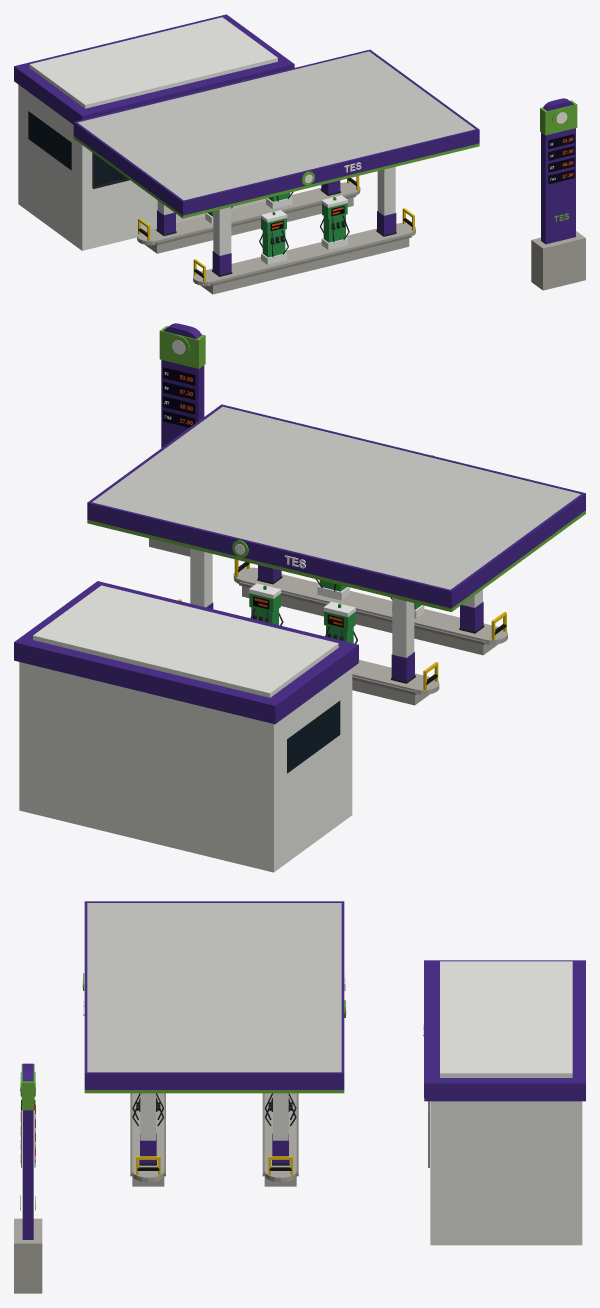
The model's file is azs_tes.glb.
3 renders of one model, top to bottom at view 1: azimuth 30°, elevation 25°; view 2: azimuth 150°, elevation 25°; view 3: azimuth 270°, elevation 25°, orthographic. The views are drawn at different scales.
Parts seen in each view (by area): view 1: azs_tes_canopy, azs_tes_shop_wall, azs_tes_concrete, azs_tes_brand, azs_tes_shop_band, azs_tes_stela, azs_tes_clad, azs_tes_shop_glass, azs_tes_pump, azs_tes_brand2, azs_tes_clad2, azs_tes_curb (+5 smaller); view 2: azs_tes_shop_wall, azs_tes_canopy, azs_tes_shop_band, azs_tes_brand, azs_tes_concrete, azs_tes_clad, azs_tes_brand2, azs_tes_stela, azs_tes_shop_glass, azs_tes_clad2, azs_tes_stela_panel, azs_tes_pump (+3 smaller); view 3: azs_tes_canopy, azs_tes_shop_wall, azs_tes_shop_band, azs_tes_brand, azs_tes_concrete, azs_tes_stela, azs_tes_clad, azs_tes_brand2, azs_tes_curb, azs_tes_metal, azs_tes_clad2.
Boxes of the visible parts, x1,y1,x2,y2 form: azs_tes_canopy: (77,51,475,200); azs_tes_shop_wall: (18,17,277,250); azs_tes_concrete: (137,182,585,294); azs_tes_brand: (73,49,479,215); azs_tes_shop_band: (14,14,294,124); azs_tes_stela: (541,98,575,244); azs_tes_clad: (157,167,395,255); azs_tes_shop_glass: (28,111,127,186); azs_tes_pump: (207,192,347,257); azs_tes_brand2: (73,136,479,218); azs_tes_clad2: (157,180,396,274); azs_tes_curb: (155,194,411,286); azs_tes_shop_wall: (19,585,352,872); azs_tes_canopy: (92,406,580,589); azs_tes_shop_band: (14,581,358,724); azs_tes_brand: (87,404,585,608); azs_tes_concrete: (149,538,507,705); azs_tes_clad: (190,548,482,657); azs_tes_brand2: (87,510,585,663); azs_tes_stela: (161,323,204,447); azs_tes_shop_glass: (287,700,340,773); azs_tes_clad2: (206,565,483,681); azs_tes_stela_panel: (163,367,195,427); azs_tes_pump: (249,580,421,643); azs_tes_canopy: (87,903,341,1072); azs_tes_shop_wall: (430,961,582,1245); azs_tes_shop_band: (424,960,585,1101); azs_tes_brand: (84,901,344,1089); azs_tes_concrete: (14,1093,296,1293); azs_tes_stela: (22,1063,33,1239); azs_tes_clad: (140,1093,288,1140); azs_tes_brand2: (84,1090,425,1101); azs_tes_curb: (130,1093,298,1176); azs_tes_metal: (132,1093,429,1167); azs_tes_clad2: (140,1133,288,1163).
Bounding box in the file's own units: 20.9 × 10.6 × 23.32.
